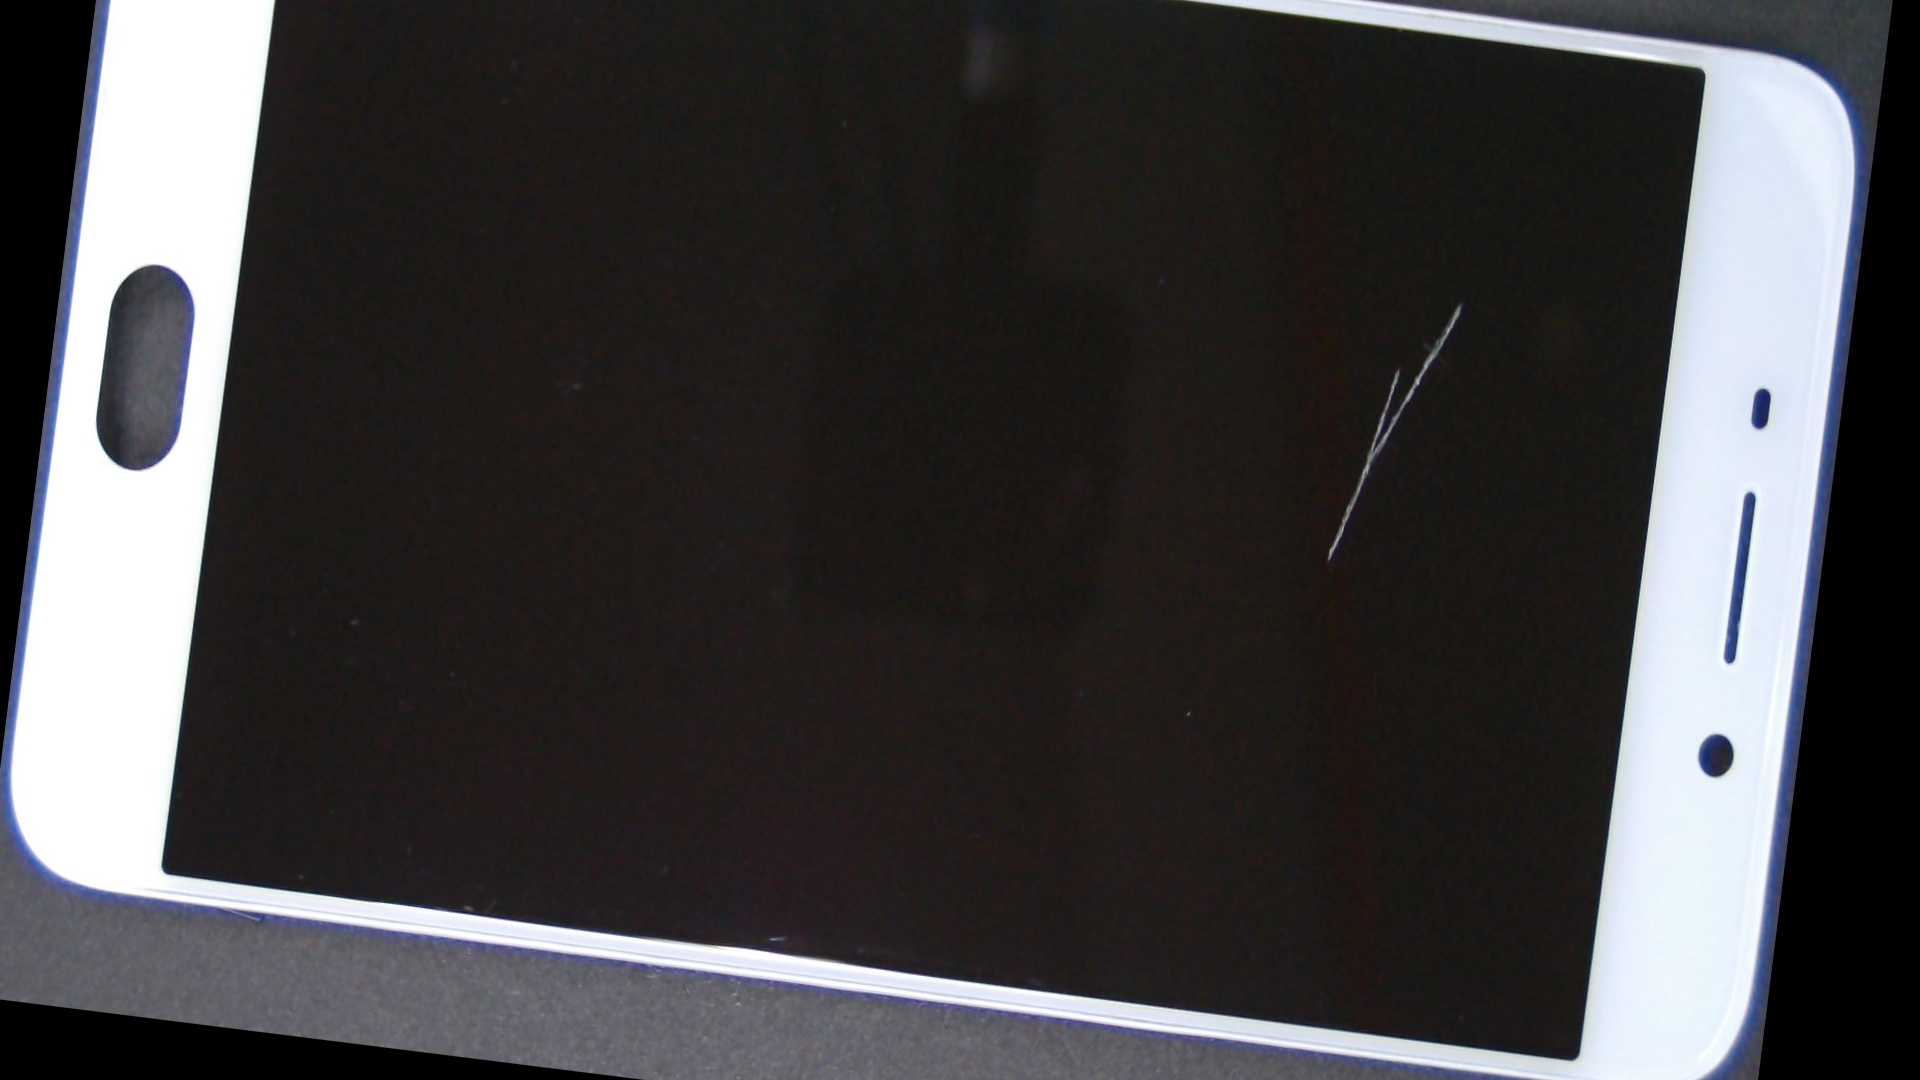oil: (746, 34, 1871, 534)
